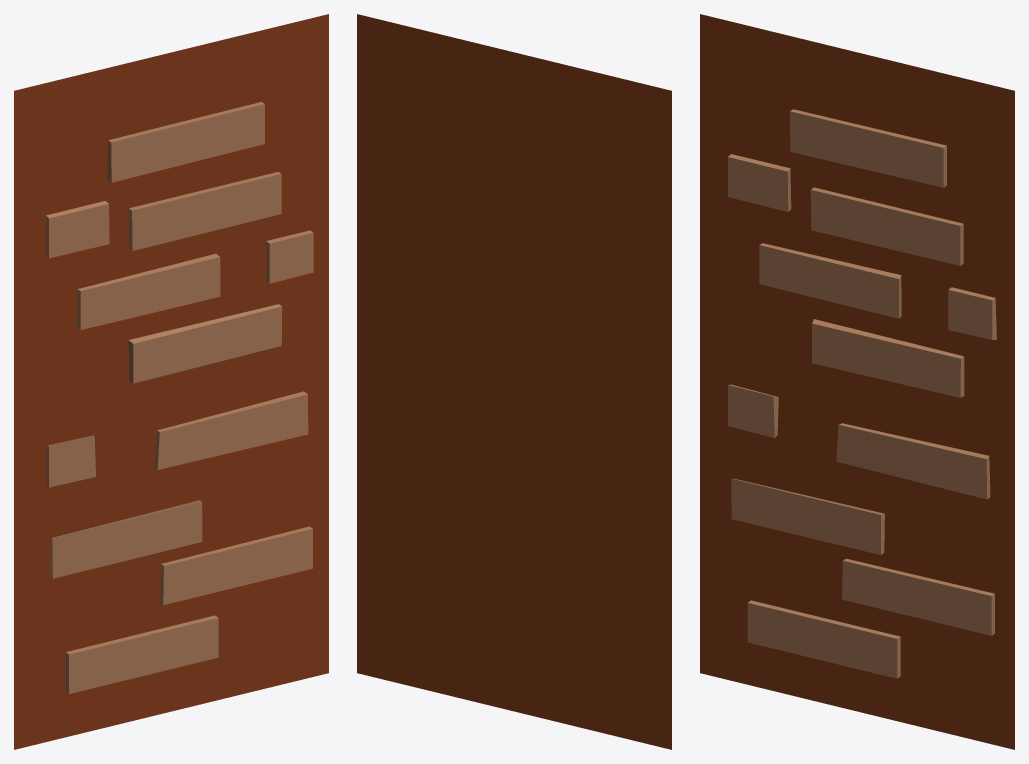
The model's file is Ext-BrickV2Small.fbx.
The picture shows the model from 3 angles, left to right: view 1: azimuth 30°, elevation 25°; view 2: azimuth 150°, elevation 25°; view 3: azimuth 330°, elevation 25°; orthographic projection.
Visible parts, largest first — view 1: Ext-BrickV2Small; view 2: Ext-BrickV2Small; view 3: Ext-BrickV2Small.
Boxes of the visible parts, x1=… form: Ext-BrickV2Small: x1=14, y1=14, x2=328, y2=749; Ext-BrickV2Small: x1=357, y1=14, x2=671, y2=749; Ext-BrickV2Small: x1=700, y1=14, x2=1014, y2=749.
Size of the model in its own units: 100 by 200 by 2.
